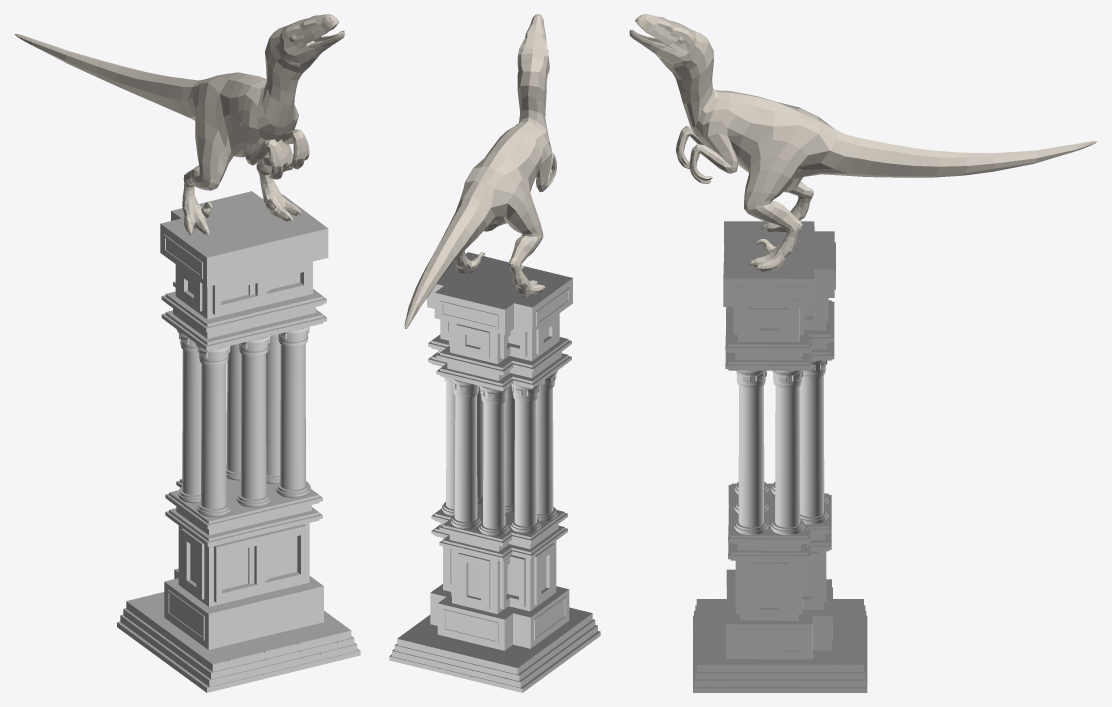
File: estatua_dinosraurio.obj
The picture shows the model from 3 angles, left to right: view 1: azimuth 30°, elevation 25°; view 2: azimuth 150°, elevation 25°; view 3: azimuth 270°, elevation 25°; orthographic projection. The views are drawn at different scales.
Parts seen in each view (by area): view 1: Pillar2, Raptor2_Plane_001; view 2: Pillar2, Raptor2_Plane_001; view 3: Pillar2, Raptor2_Plane_001.
Boxes of the visible parts, box(x1,y1,x2,y2) form: Pillar2: box(117, 191, 360, 692); Raptor2_Plane_001: box(14, 14, 344, 236); Pillar2: box(389, 252, 600, 692); Raptor2_Plane_001: box(404, 14, 556, 328); Pillar2: box(693, 221, 867, 692); Raptor2_Plane_001: box(629, 14, 1097, 271).
Size of the model in its own units: 5.31 by 22.23 by 14.47.
2 materials, 1 textured.
